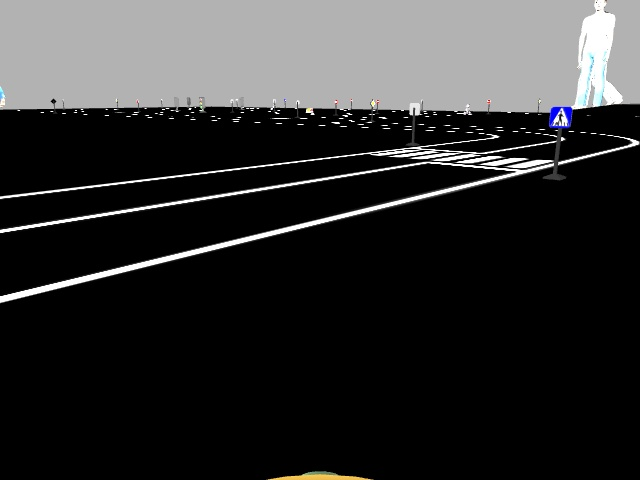Crosswalk: (549, 105, 571, 128)
